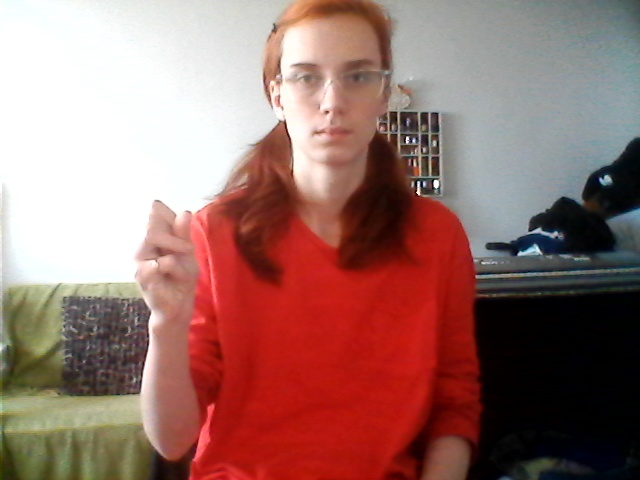r: (128, 191, 205, 330)
